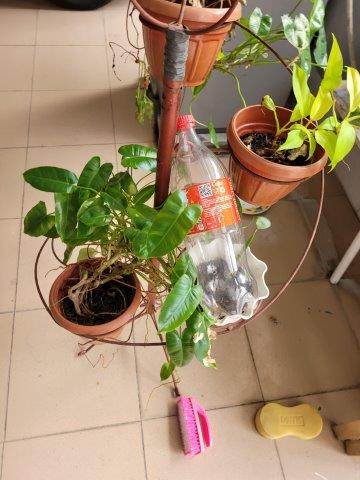botolplastik: (174, 115, 257, 322)
